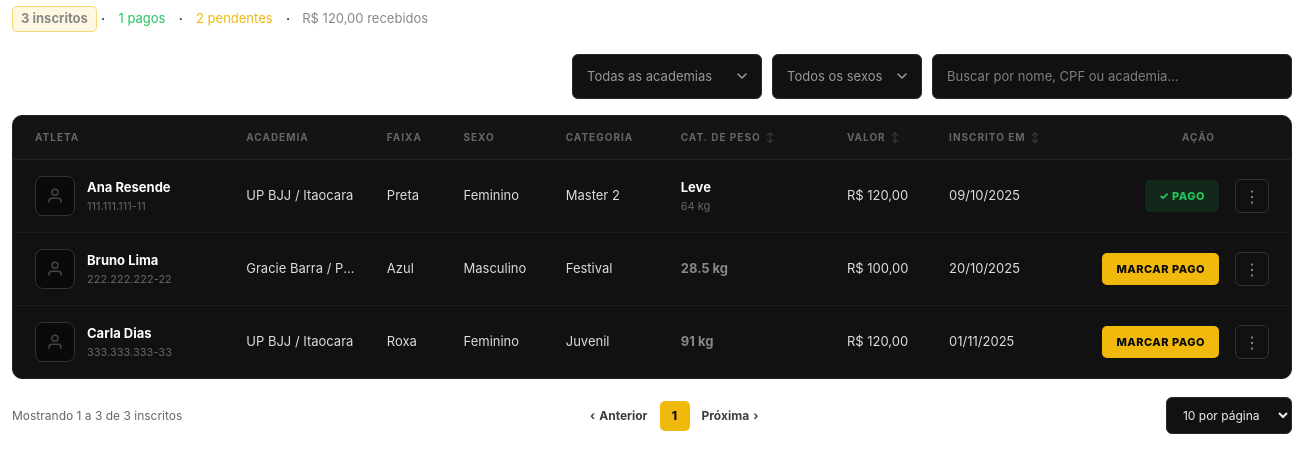
it: Inscrições — filtros › filtra por pagas
Check: the text "Ana Resende" is shown, box [87,178,171,198]
Click the button "1 pagos".
click(142, 19)  # box [109,6,174,32]
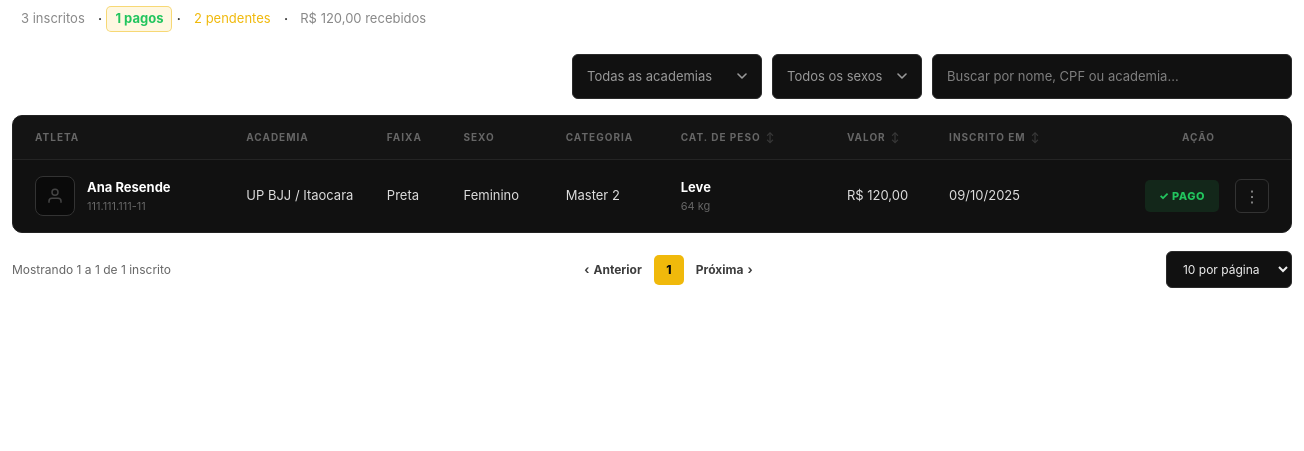
Check: the text "Ana Resende" is shown, box [87,178,171,198]
Check: the text "Bruno Lima" is gone
